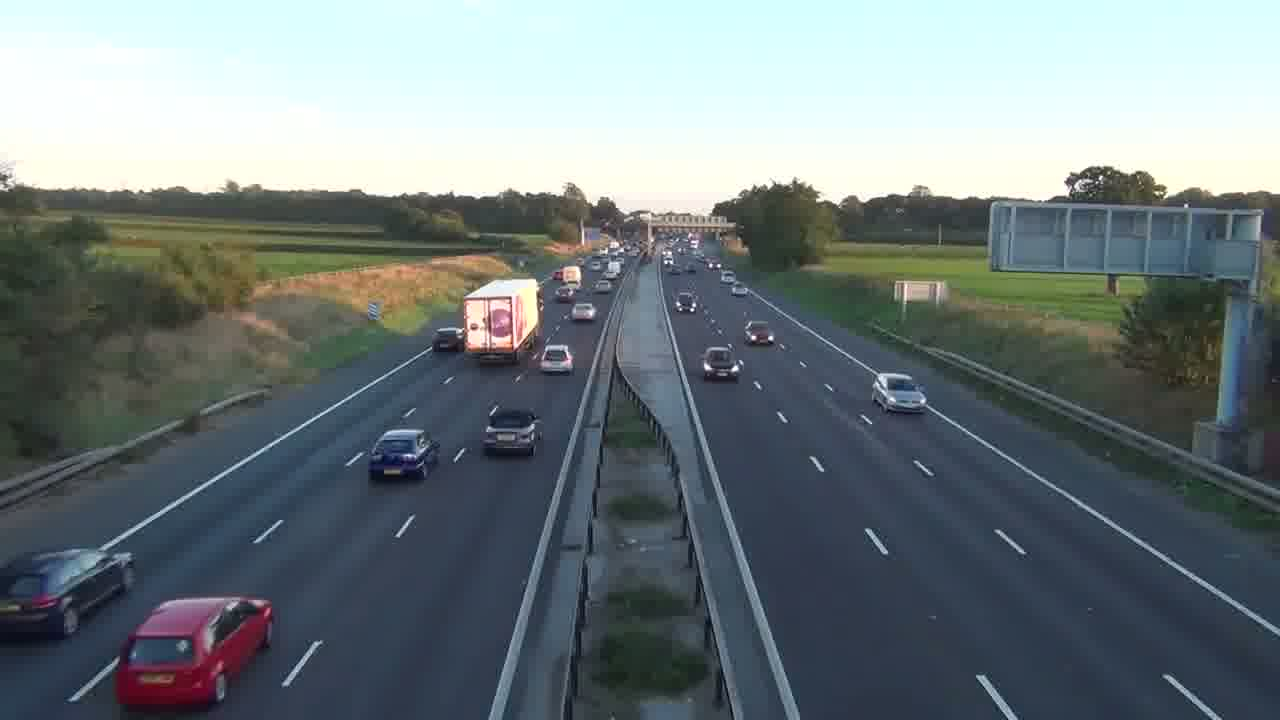bus: (463, 277, 543, 363)
car: (114, 595, 274, 708), (481, 405, 544, 456), (871, 372, 928, 415), (701, 343, 743, 382), (539, 344, 575, 374), (431, 326, 465, 353), (744, 320, 774, 345), (571, 302, 596, 323)
truck: (0, 546, 136, 640)
